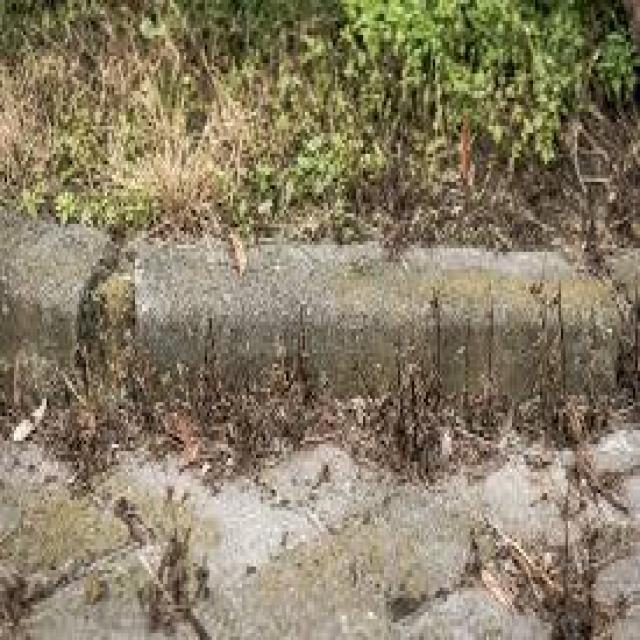curb: (135, 242, 621, 398), (1, 212, 111, 415)
